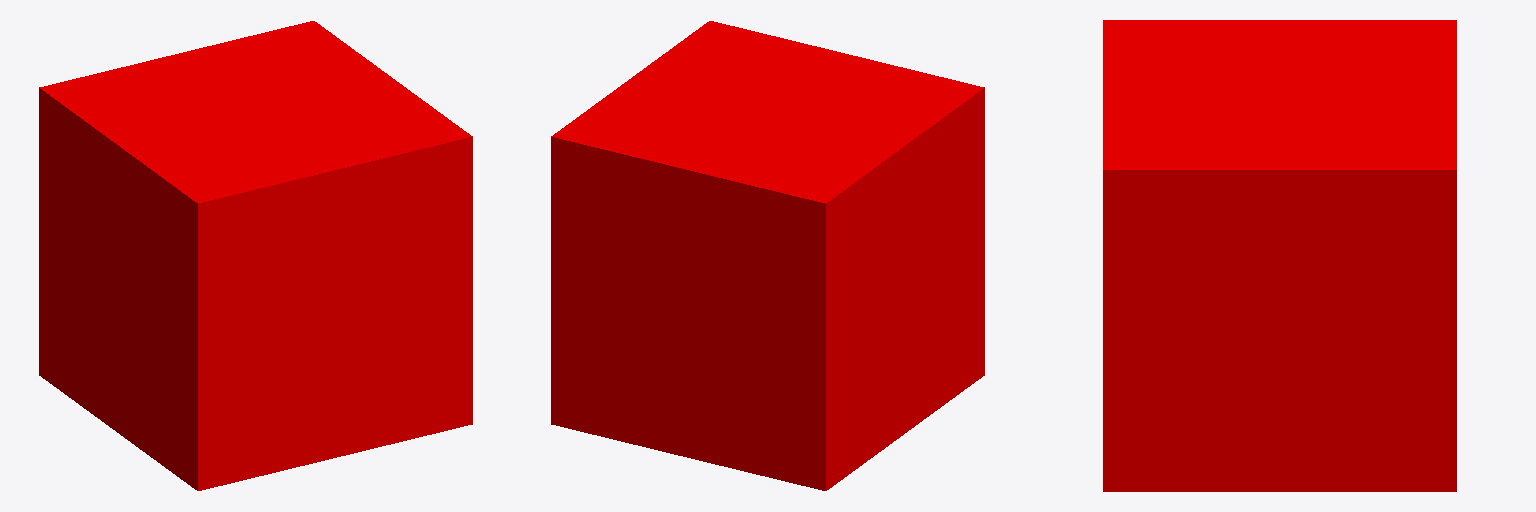
The robot description file, URDF, robot "block":
<?xml version="1.0"?>
<robot name="block">
    <link name="robot_base">
        <inertial>
            <origin xyz="0.274996 -0.025000 0.028996" rpy="3.141592 3.141618 -3.141593" />
            <inertia iyz="0.0" iyy="0.00018771174387666" ixz="0.0" ixy="0.0" izz="0.00018771174387666" ixx="0.00018771174387666" />
            <mass value="0.35595703125" />
        </inertial>
        <collision name="block">
            <origin xyz="0.274996 -0.025000 0.028996" rpy="3.141592 3.141618 -3.141593" />
            <geometry>
                <box size="0.056250 0.056250 0.056250" />
            </geometry>
        </collision>
        <visual name="block">
            <origin xyz="0.274996 -0.025000 0.028996" rpy="3.141592 3.141618 -3.141593" />
            <geometry>
                <box size="0.056250 0.056250 0.056250" />
            </geometry>
            <material name="robot_base_material">
                <color rgba="1.000000 0.000000 0.000000 1.0" />
            </material>
        </visual>
    </link>
</robot>

--- Facts derived from the render (not from the file) ---
Views: 3 orthographic renders of the robot side by side, from view 1: azimuth 30°, elevation 25°; view 2: azimuth 150°, elevation 25°; view 3: azimuth 270°, elevation 25°.
Robot: block — 1 links, 0 joints (none); root link robot_base; default pose: every joint at zero.
Links seen in each view (by area): view 1: robot_base; view 2: robot_base; view 3: robot_base.
Boxes of the visible links, box(x1,y1,x2,y2) form: robot_base: box(39, 21, 472, 490); robot_base: box(551, 21, 984, 490); robot_base: box(1103, 20, 1456, 491).
Size in the robot's own frame: 0.0563 by 0.0563 by 0.0563 metres.
Geometry: primitives only (box / cylinder / sphere), no mesh files.
